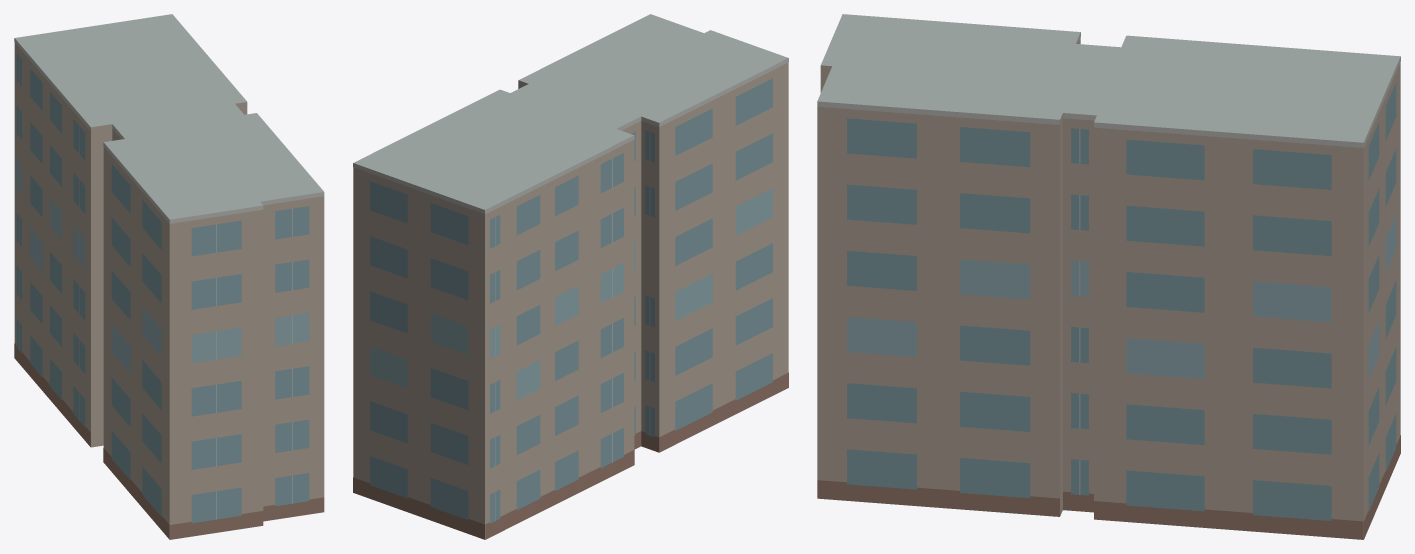
Rendered from survey-upis-32664140.glb.
3 renders of one model, left to right at view 1: azimuth 30°, elevation 25°; view 2: azimuth 150°, elevation 25°; view 3: azimuth 270°, elevation 25°, orthographic. The views are drawn at different scales.
Visible parts, largest first — view 1: survey-upis-32664140.tmp; view 2: survey-upis-32664140.tmp; view 3: survey-upis-32664140.tmp.
Part boxes in pixels (left/top/right/bottom): survey-upis-32664140.tmp: left=14, top=14, right=324, bottom=539; survey-upis-32664140.tmp: left=353, top=14, right=788, bottom=539; survey-upis-32664140.tmp: left=817, top=14, right=1400, bottom=539.
Bounding box in the file's own units: 12.94 × 18.6 × 24.78.
